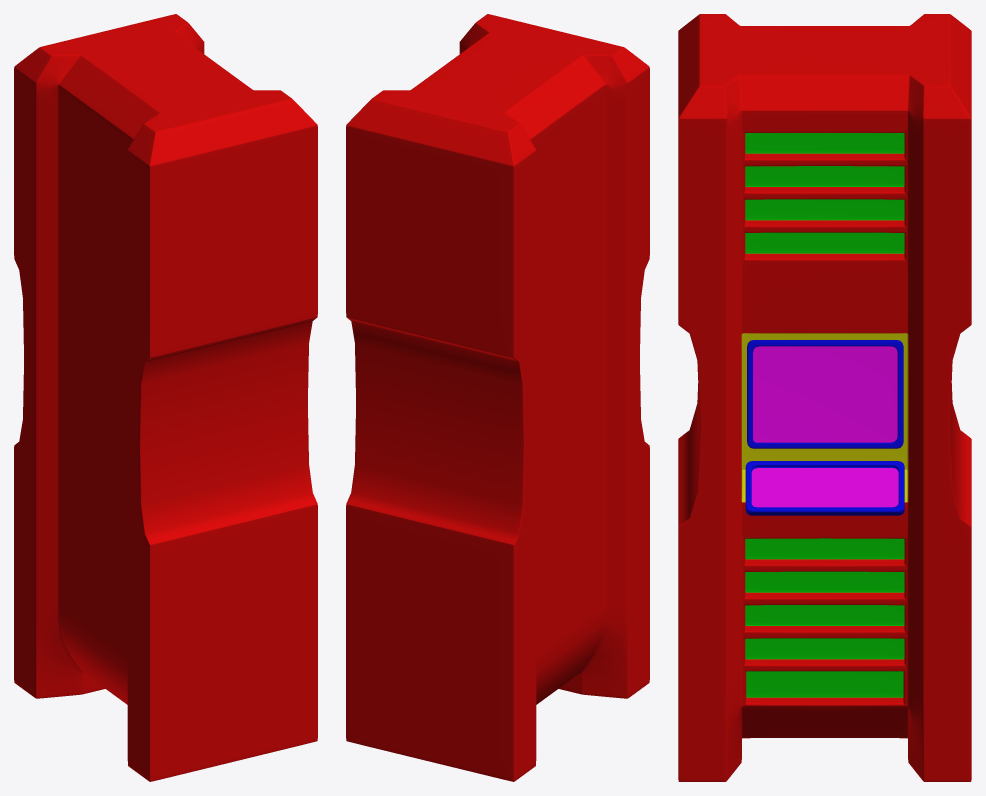
File: Servers.fbx
3 views of the same model, side by side, from view 1: azimuth 30°, elevation 25°; view 2: azimuth 150°, elevation 25°; view 3: azimuth 270°, elevation 25° (orthographic). The views are drawn at different scales.
Parts seen in each view (by area): view 1: Servers; view 2: Servers; view 3: Servers.
Part boxes in pixels (left/top/right/bottom): Servers: left=14, top=14, right=317, bottom=781; Servers: left=346, top=14, right=649, bottom=781; Servers: left=678, top=14, right=971, bottom=781.
Size of the model in its own units: 96.36 by 340 by 131.
